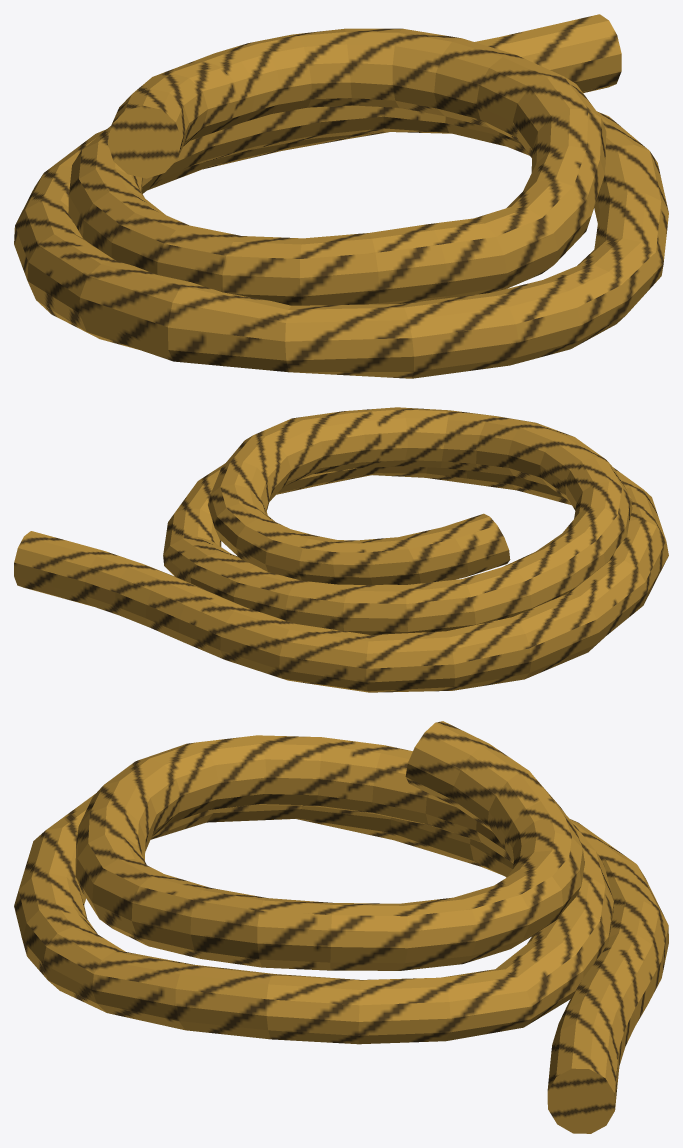
The model's file is rope.fbx.
3 renders of one model, top to bottom at view 1: azimuth 30°, elevation 25°; view 2: azimuth 150°, elevation 25°; view 3: azimuth 270°, elevation 25°, orthographic. The views are drawn at different scales.
Parts seen in each view (by area): view 1: rope; view 2: rope; view 3: rope.
Part boxes in pixels (bbox=[...]): rope: bbox=[14, 14, 668, 378]; rope: bbox=[14, 407, 668, 692]; rope: bbox=[14, 721, 668, 1133].
Bounding box in the file's own units: 194 × 50.21 × 170.
